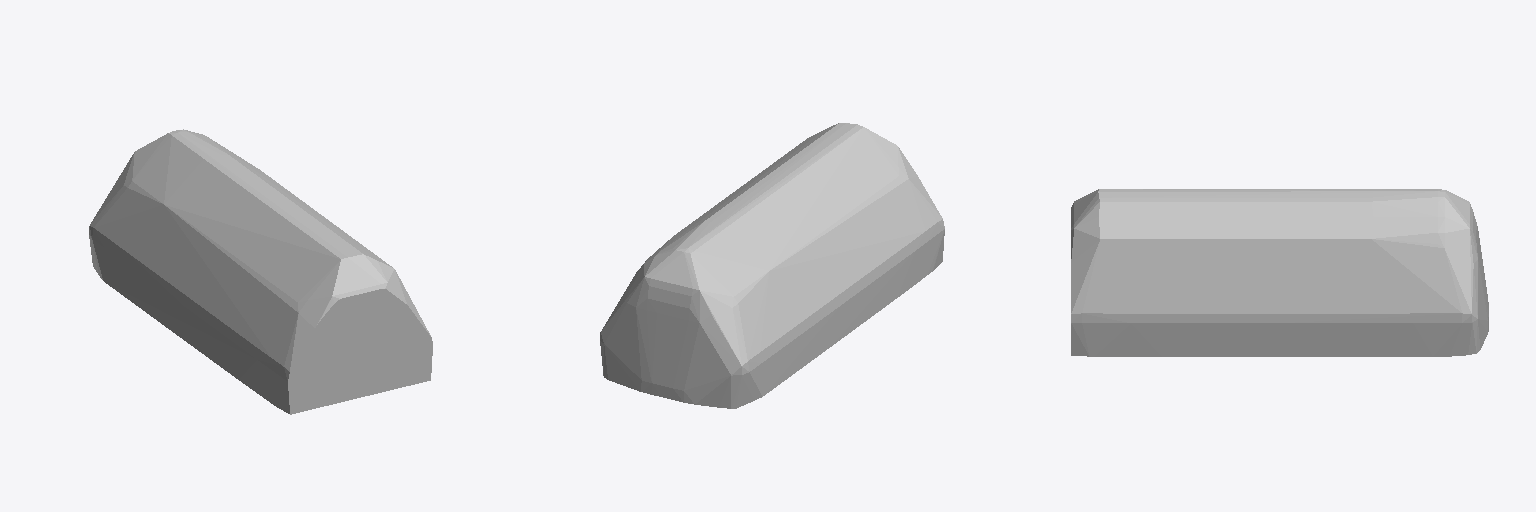
File: ShipScene_collision_11.obj
3 views of the same model, side by side, from view 1: azimuth 30°, elevation 25°; view 2: azimuth 150°, elevation 25°; view 3: azimuth 270°, elevation 25° (orthographic).
Size of the model in its own units: 70.36 by 59.66 by 173.